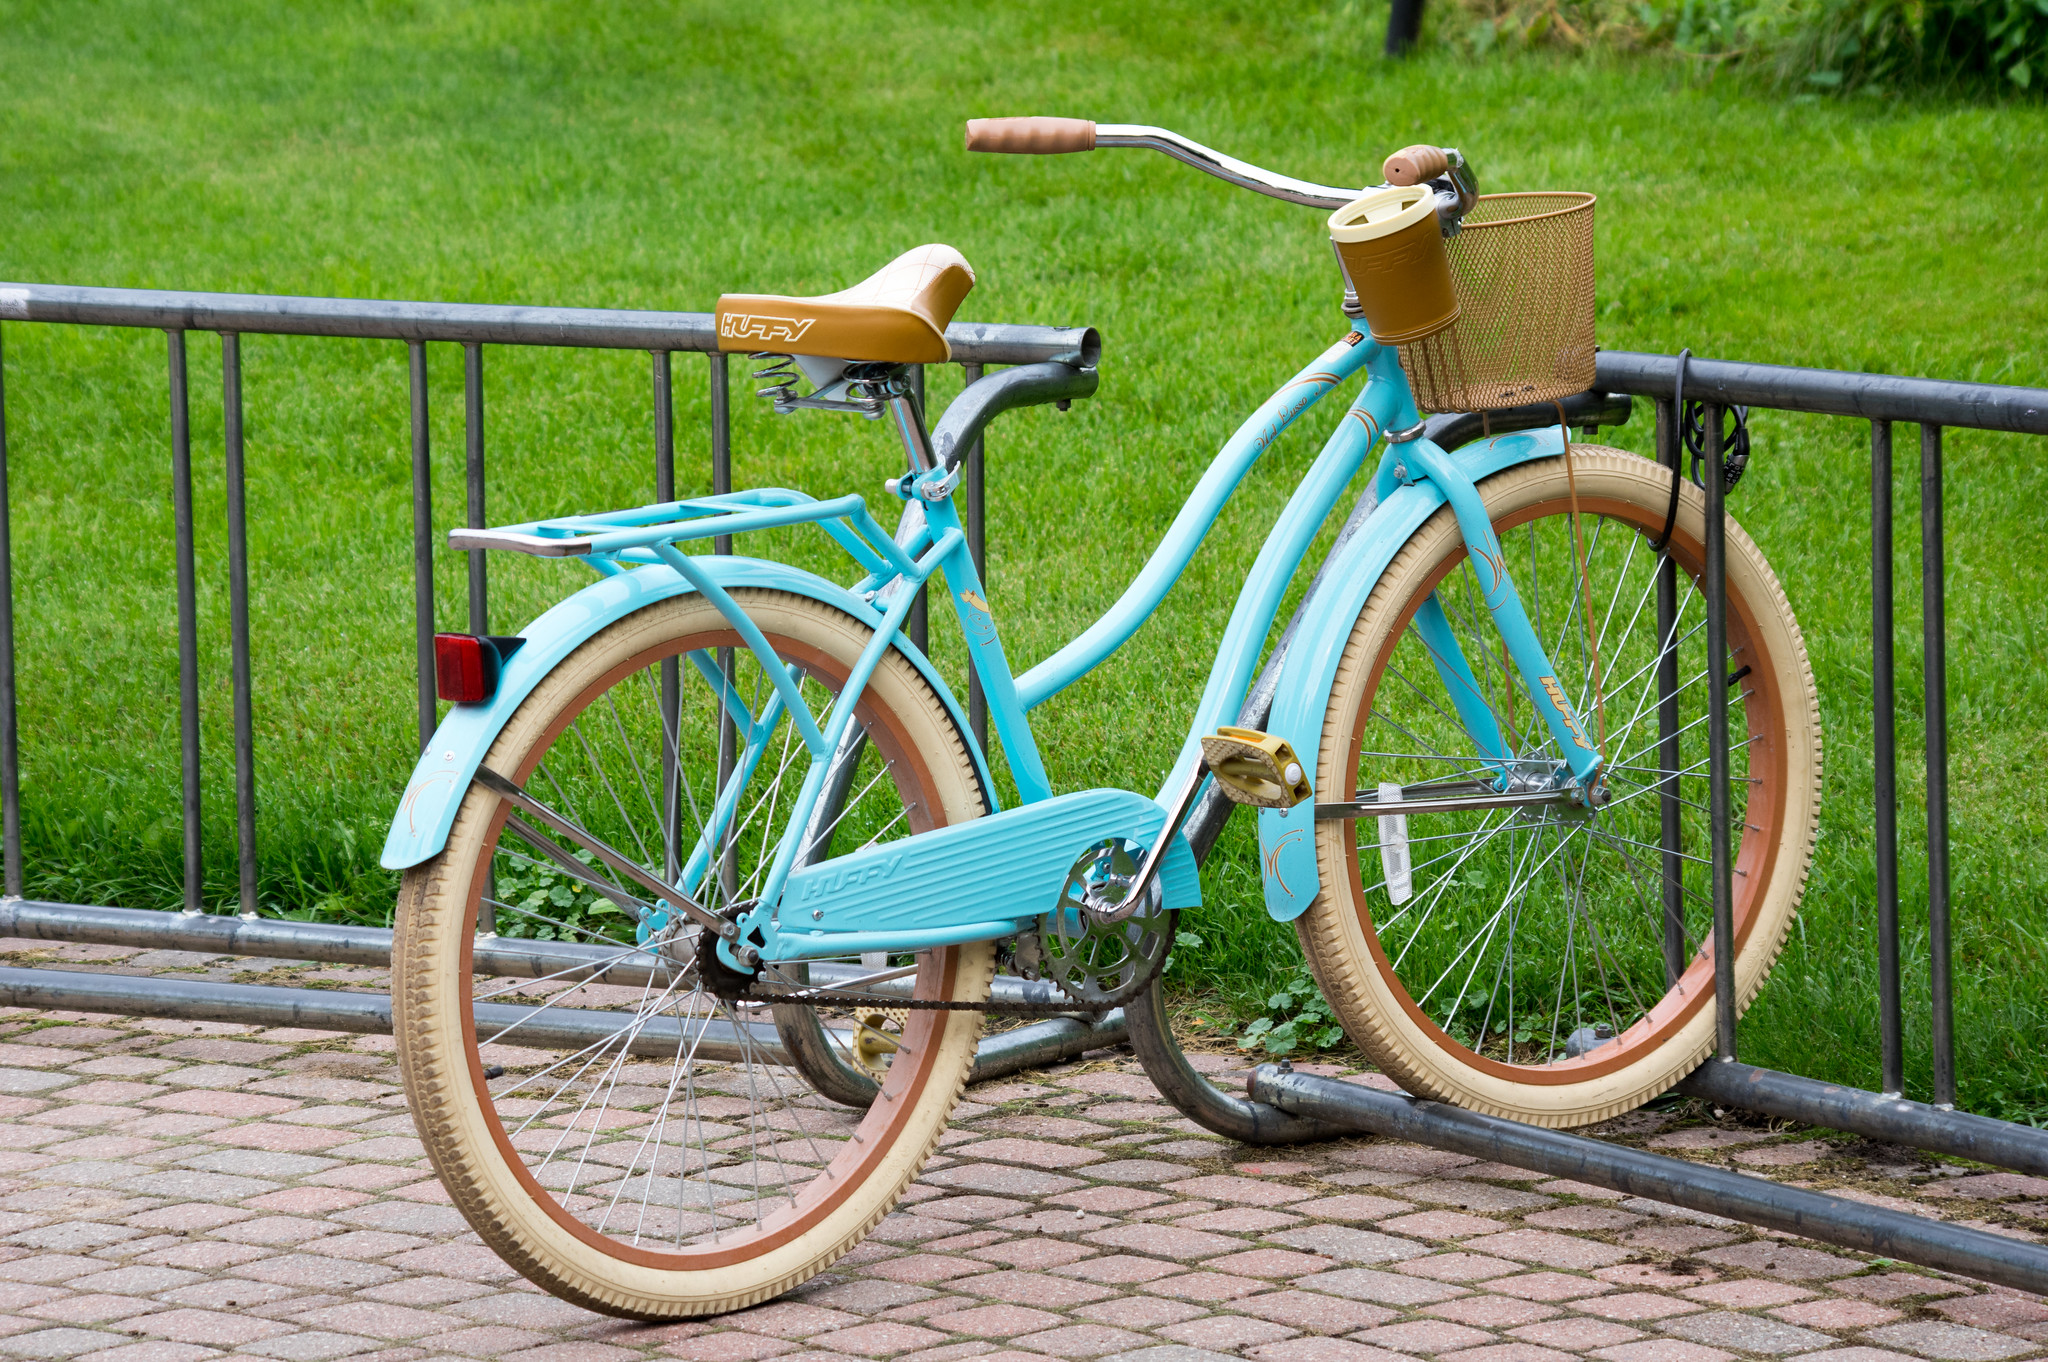bicycle: (393, 100, 1803, 1307)
